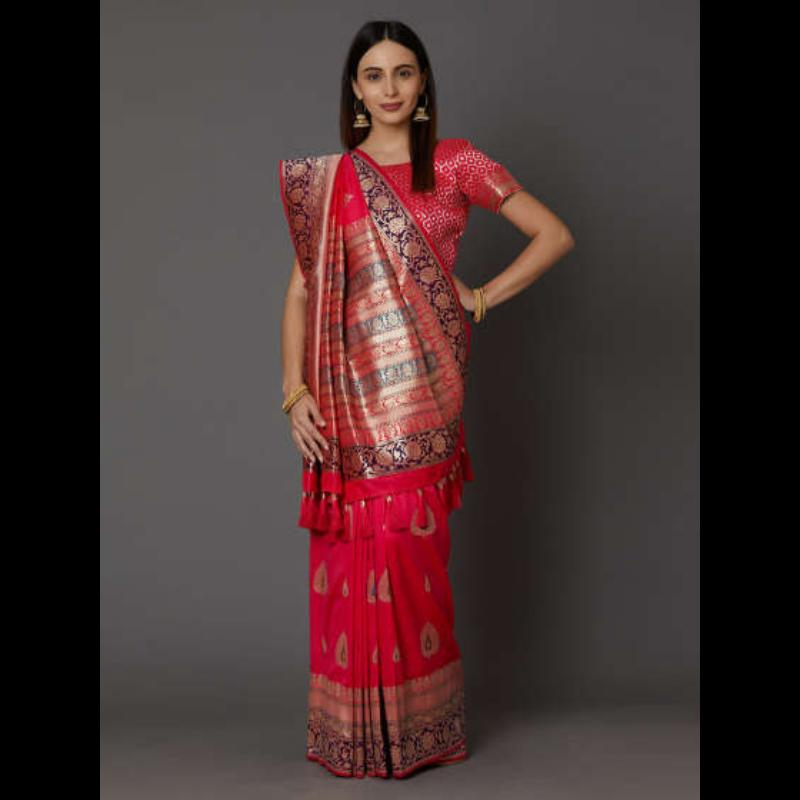Saree: (247, 144, 493, 799)
